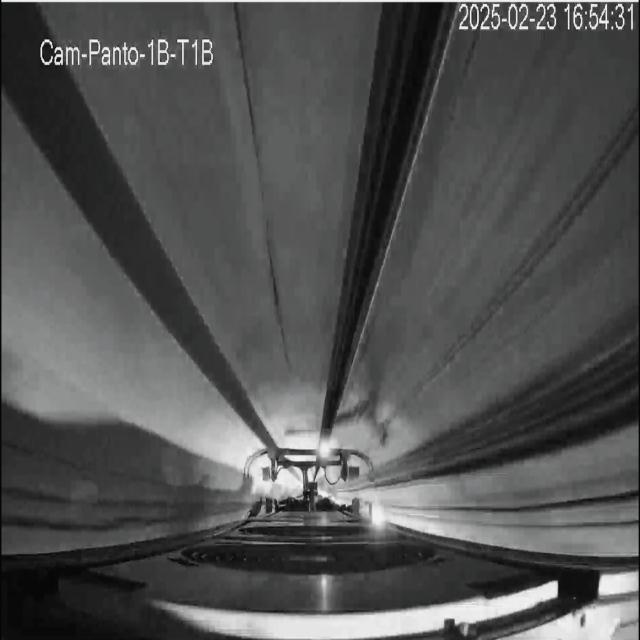Camera Stamp: (37, 29, 221, 70)
Date Stamp: (458, 3, 634, 33)
Sparks: (314, 431, 344, 468)
